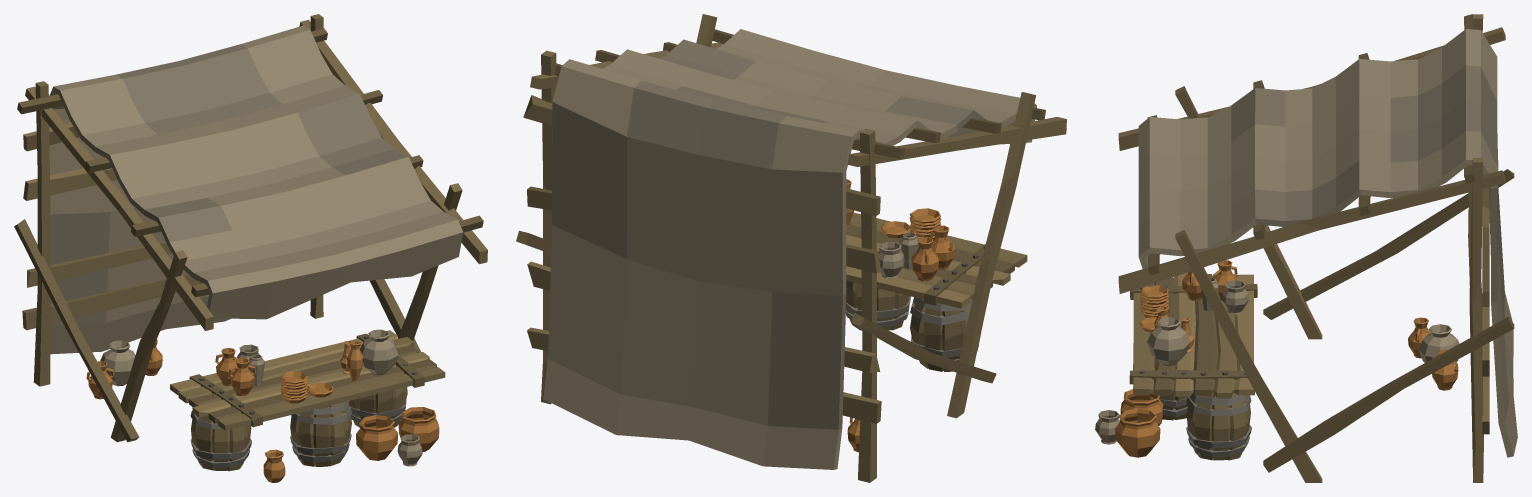
File: Market_3.fbx
3 views of the same model, side by side, from view 1: azimuth 30°, elevation 25°; view 2: azimuth 150°, elevation 25°; view 3: azimuth 270°, elevation 25° (orthographic). The views are drawn at different scales.
Visible parts, largest first — view 1: Market_3; view 2: Market_3; view 3: Market_3.
Part boxes in pixels (x1,y1,x2,y2): Market_3: (14, 14, 487, 482); Market_3: (516, 14, 1066, 482); Market_3: (1095, 14, 1517, 482).
Bounding box in the file's own units: 363 × 331 × 391.
